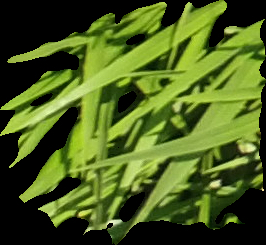grass: (1, 1, 263, 243)
